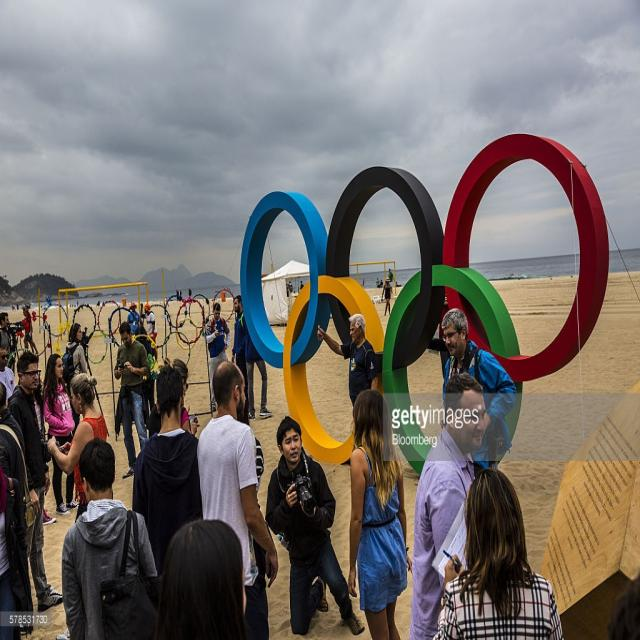body: (262, 412, 368, 639), (431, 465, 566, 640), (197, 360, 279, 639), (408, 370, 488, 640), (60, 436, 162, 640), (342, 385, 417, 639), (129, 363, 205, 579), (5, 349, 64, 616), (440, 307, 518, 474), (152, 516, 250, 639), (46, 372, 108, 525), (0, 380, 36, 636), (38, 352, 82, 518), (234, 392, 271, 586), (0, 439, 35, 640), (316, 311, 380, 410), (113, 320, 152, 480), (146, 356, 200, 439), (31, 370, 57, 527), (204, 300, 233, 414), (602, 564, 639, 640), (65, 322, 88, 438), (244, 327, 272, 422), (133, 324, 158, 430), (230, 293, 250, 423), (9, 294, 110, 314), (22, 304, 40, 357), (143, 302, 158, 364), (0, 347, 15, 398), (22, 306, 36, 356), (381, 276, 394, 317), (126, 302, 142, 335), (0, 311, 11, 353), (285, 277, 307, 296), (175, 285, 194, 304), (359, 274, 384, 288), (388, 268, 397, 292)
